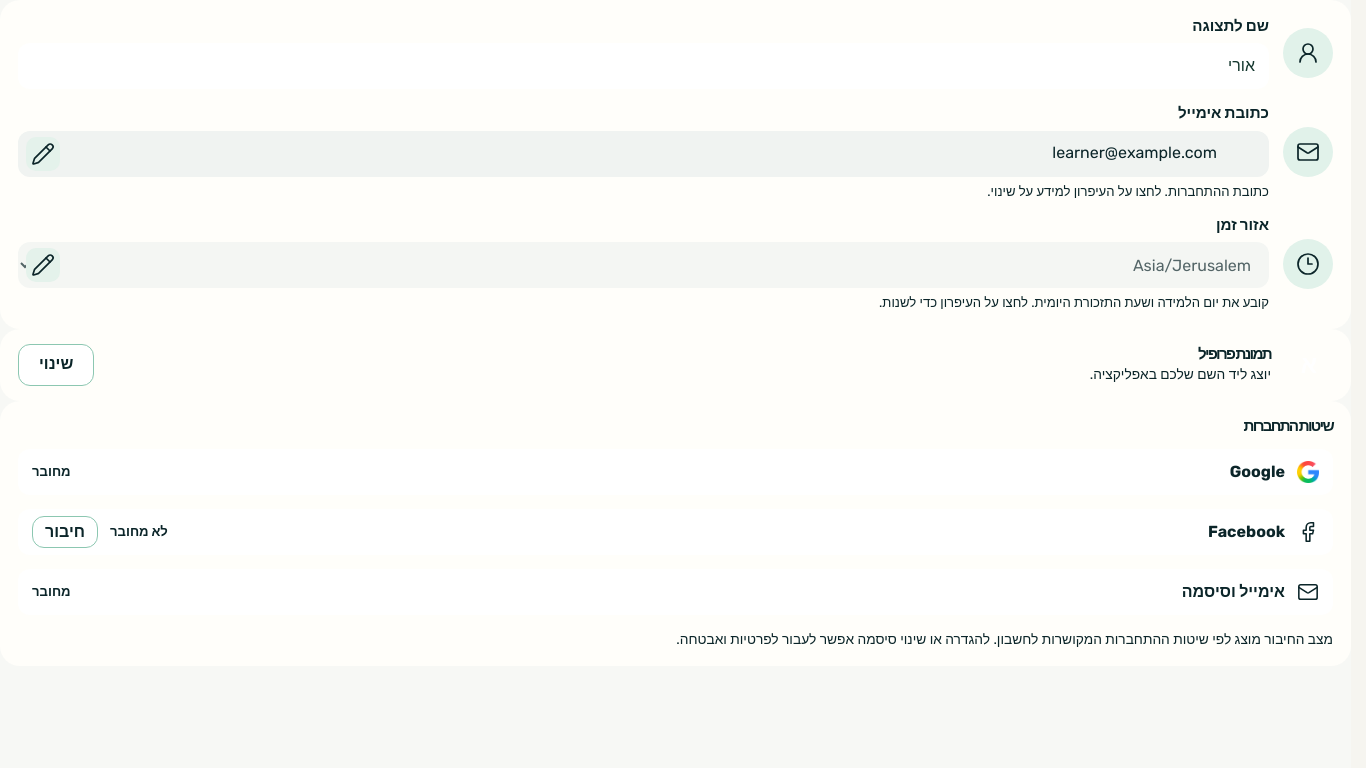
Test case: uses Core method truth for Google, Facebook and email and explains the separate email-change boundary
This screenshot has width=1366, height=768.
Expected: the field labelled "כתובת אימייל" holds "learner@example.com", [18,131,1269,177]
Expected: the text "מחובר" is shown 2 times, [32,463,71,481]; [32,583,71,601]
Click the button named "שינוי כתובת אימייל" at (43, 154), box [26,137,60,171]
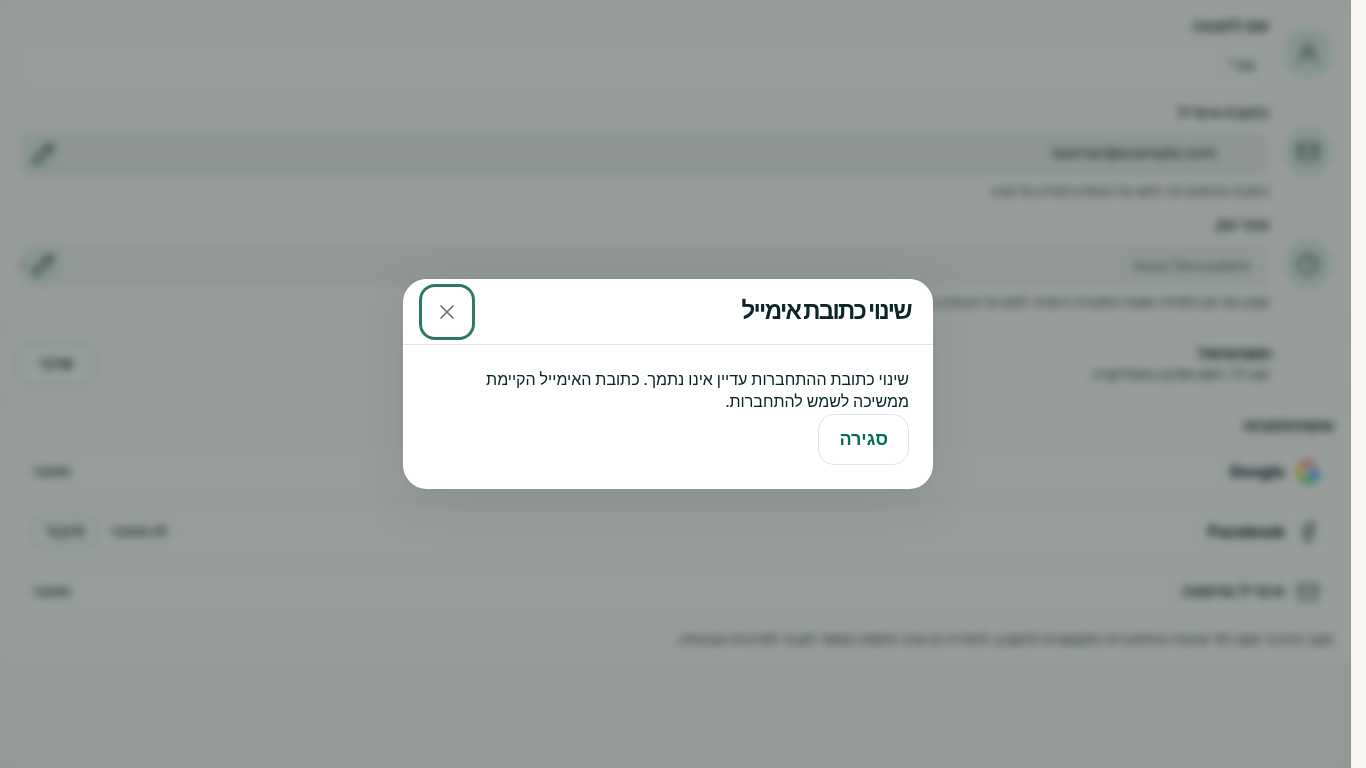
Now the dialog shows "שינוי כתובת ההתחברות עדיין אינו נתמך. כתובת האימייל הקיימת ממשיכה לשמש להתחברות.", box [486,370,909,411]
Press Escape
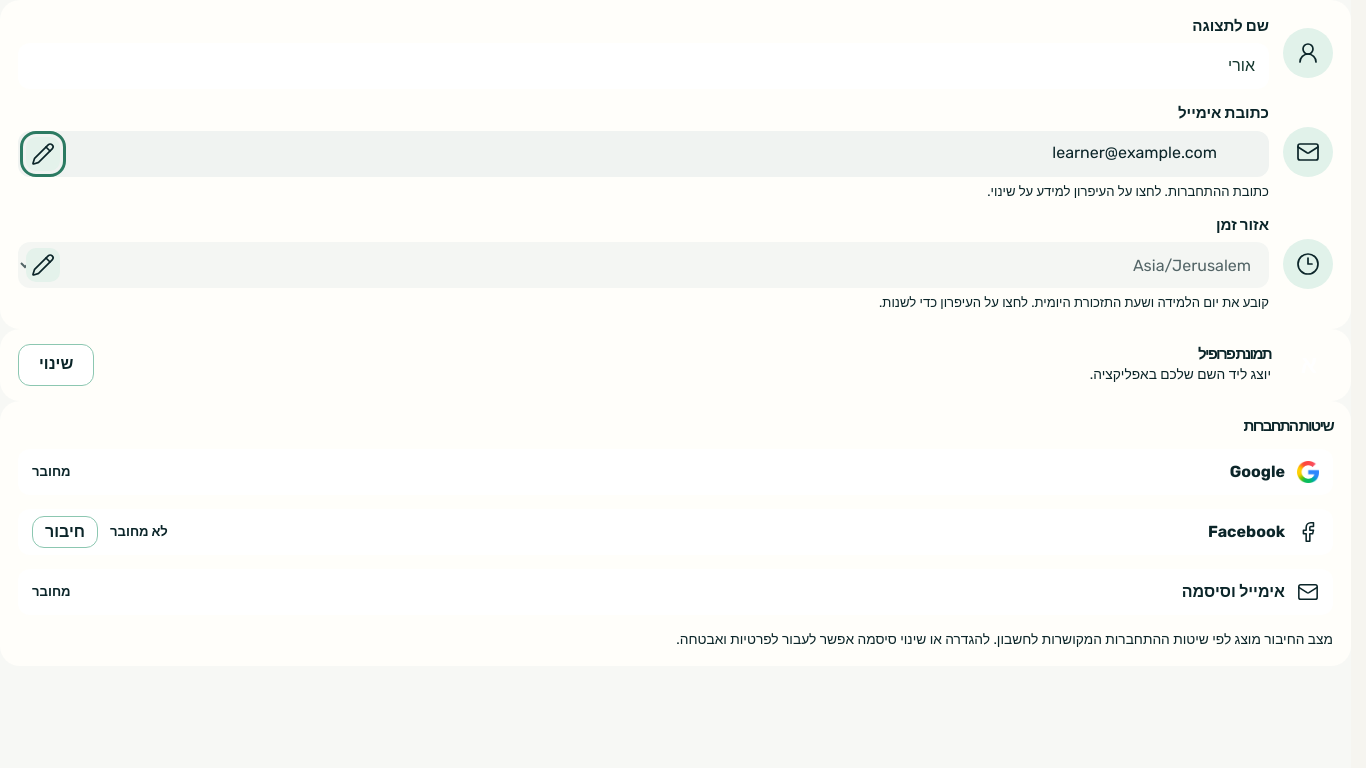
Now the dialog is gone
